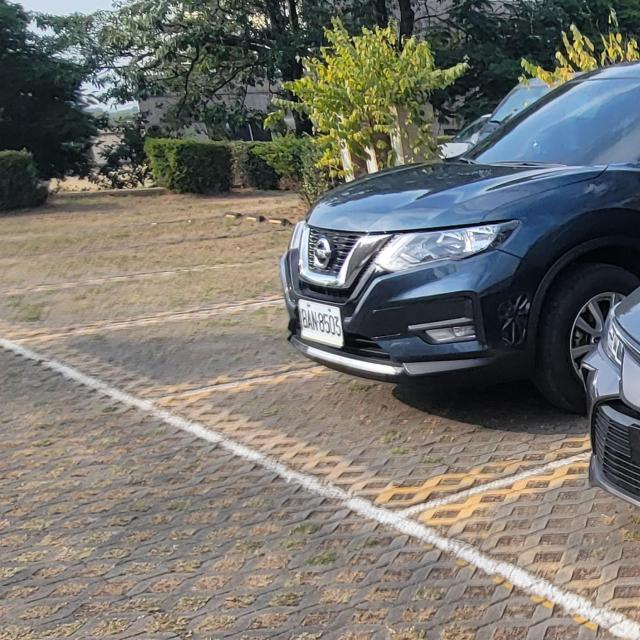W: (296, 296, 345, 348)
